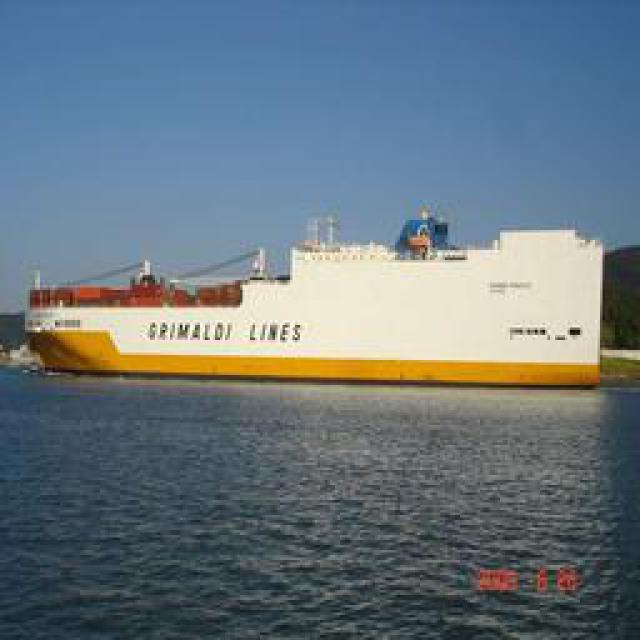Ship: (26, 214, 611, 387)
